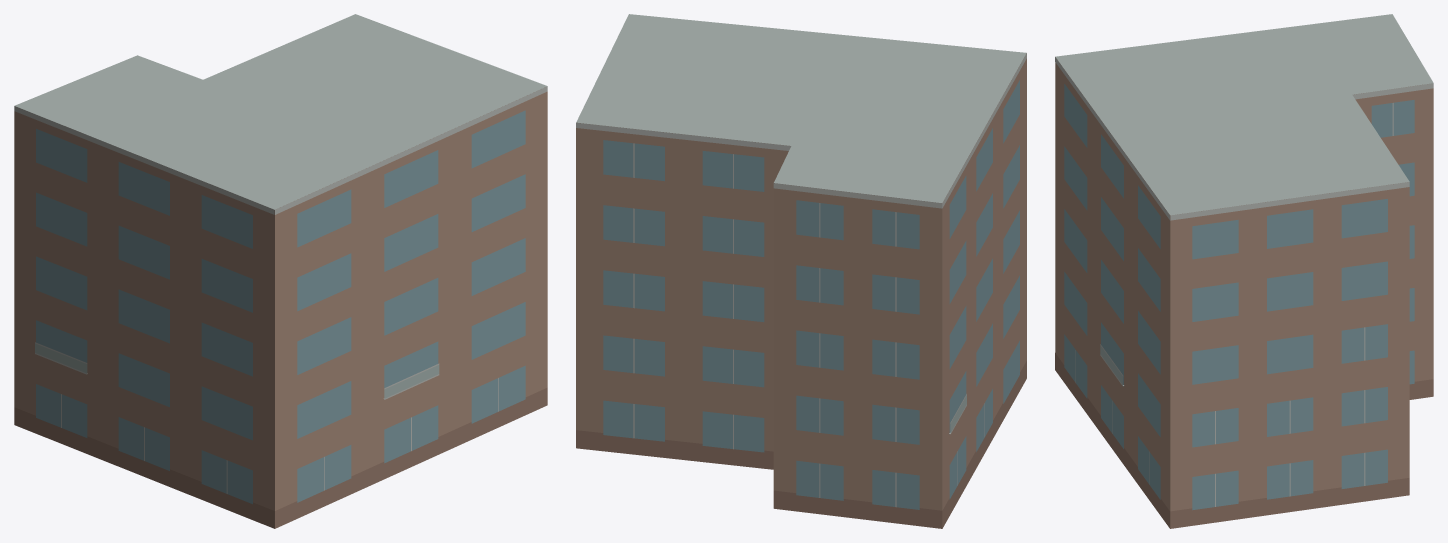
Rendered from survey-upis-32535649.glb.
The picture shows the model from 3 angles, left to right: view 1: azimuth 30°, elevation 25°; view 2: azimuth 150°, elevation 25°; view 3: azimuth 270°, elevation 25°; orthographic projection. The views are drawn at different scales.
Visible parts, largest first — view 1: survey-upis-32535649.tmp; view 2: survey-upis-32535649.tmp; view 3: survey-upis-32535649.tmp.
Boxes of the visible parts, x1=… form: survey-upis-32535649.tmp: x1=14, y1=14, x2=547, y2=528; survey-upis-32535649.tmp: x1=576, y1=14, x2=1026, y2=528; survey-upis-32535649.tmp: x1=1055, y1=14, x2=1433, y2=528.
Size of the model in its own units: 20.41 by 14.8 by 16.21.
